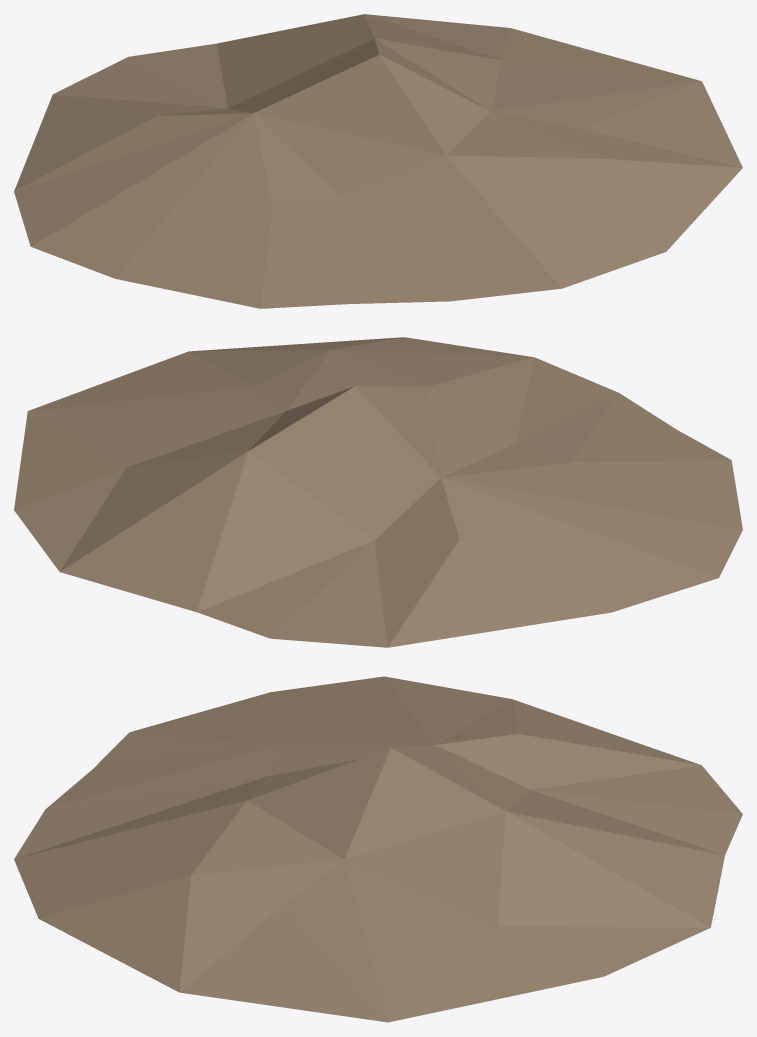
Rendered from SM_Env_SandEdge_06.fbx.
3 views of the same model, one above another, from view 1: azimuth 30°, elevation 25°; view 2: azimuth 150°, elevation 25°; view 3: azimuth 270°, elevation 25° (orthographic). The views are drawn at different scales.
Parts seen in each view (by area): view 1: SM_Env_SandEdge_06; view 2: SM_Env_SandEdge_06; view 3: SM_Env_SandEdge_06.
Boxes of the visible parts, x1=… form: SM_Env_SandEdge_06: x1=14, y1=14, x2=742, y2=308; SM_Env_SandEdge_06: x1=14, y1=337, x2=742, y2=647; SM_Env_SandEdge_06: x1=14, y1=676, x2=742, y2=1022.
Bounding box in the file's own units: 630 × 92.92 × 561.
